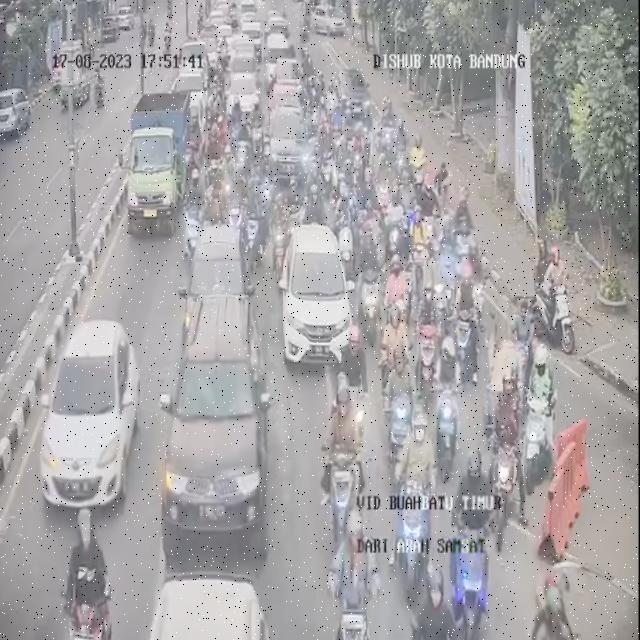cars: (167, 293, 276, 554), (37, 315, 140, 512), (284, 221, 358, 365), (140, 570, 272, 638), (181, 223, 250, 326), (265, 100, 309, 182), (176, 61, 212, 116), (269, 57, 299, 103), (264, 37, 292, 86), (231, 49, 260, 92), (264, 15, 290, 48)
motorcycle: (453, 448, 498, 636), (321, 388, 367, 568), (393, 418, 431, 587), (65, 511, 112, 638), (520, 345, 560, 489), (523, 568, 585, 640), (536, 244, 574, 354), (434, 331, 464, 468), (414, 567, 467, 640), (334, 325, 369, 435), (383, 353, 415, 464), (445, 187, 479, 286), (356, 221, 384, 341), (181, 170, 204, 275), (342, 67, 372, 134), (244, 196, 265, 272), (378, 103, 400, 171), (236, 113, 258, 180), (313, 118, 334, 176), (406, 134, 426, 178), (205, 190, 225, 227)
truck: (130, 93, 193, 235)
